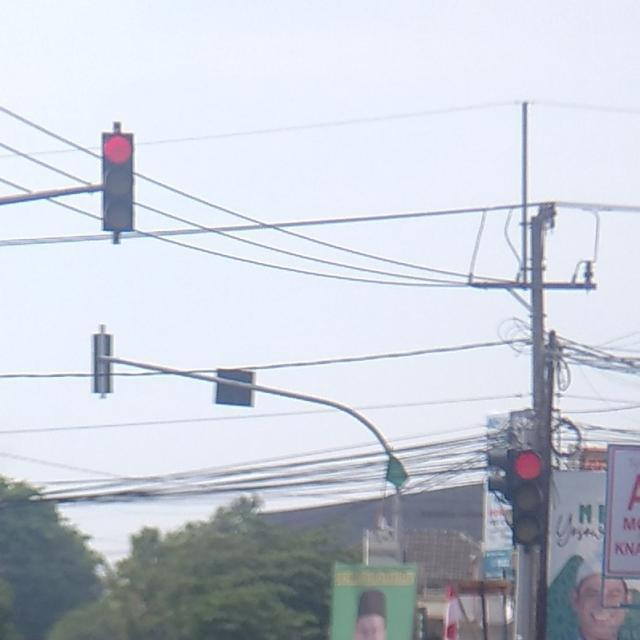red: (510, 448, 546, 546), (100, 132, 134, 228)
